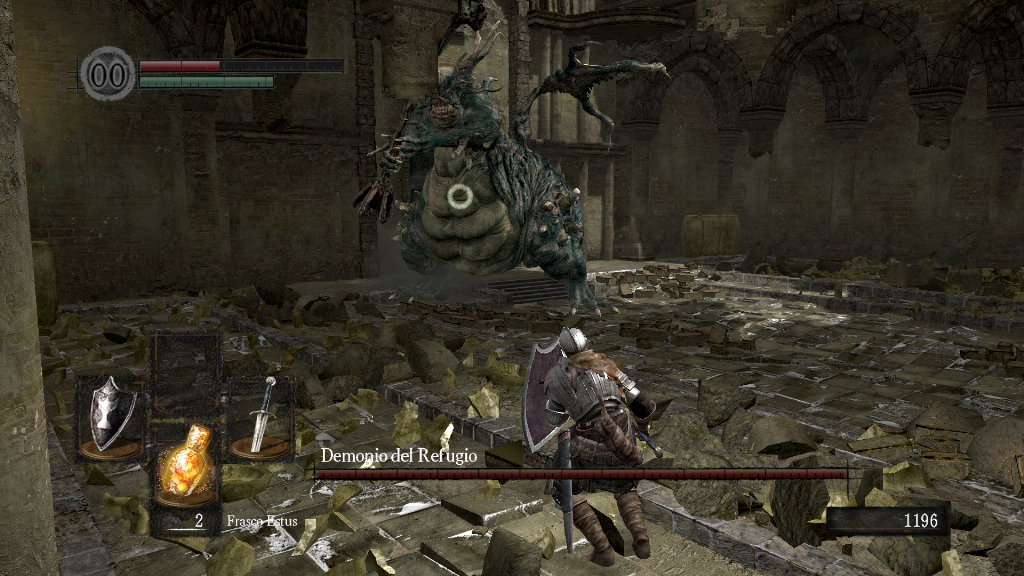asylumDemon: (351, 20, 672, 319)
bossHP: (314, 469, 847, 479)
health: (138, 58, 343, 71)
humanity: (80, 45, 136, 102)
player: (519, 326, 666, 566)
souls: (825, 506, 945, 536)
stamina: (138, 74, 274, 88)
